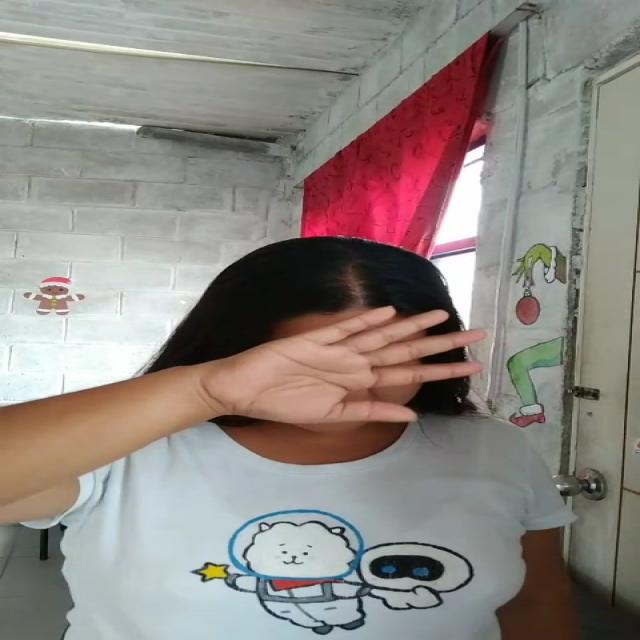7_mano_rostro: (119, 307, 433, 427)
